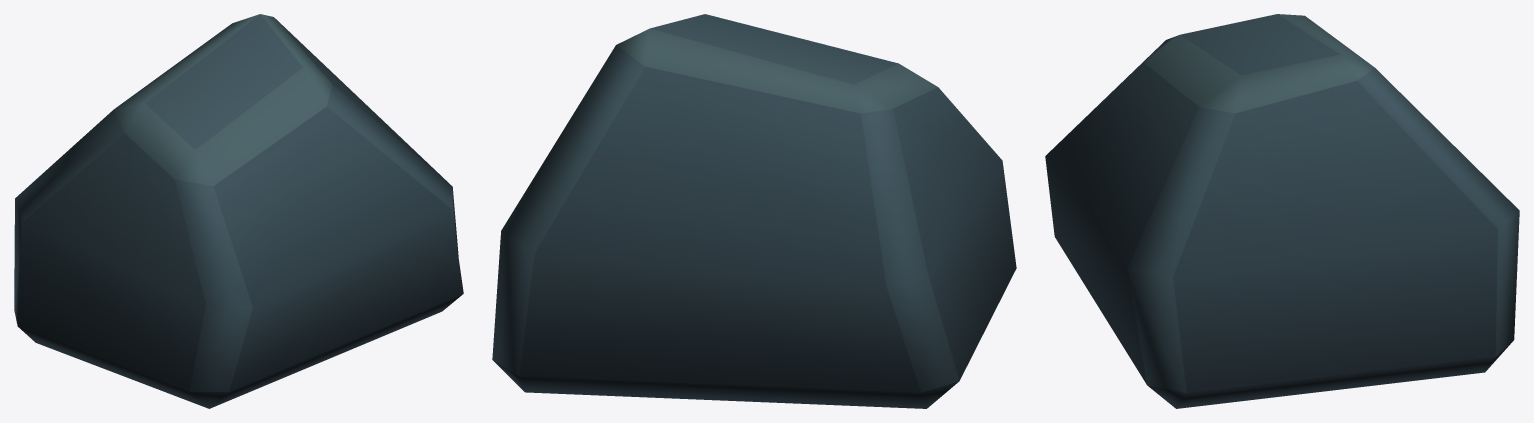
File: rock_22.fbx
3 views of the same model, side by side, from view 1: azimuth 30°, elevation 25°; view 2: azimuth 150°, elevation 25°; view 3: azimuth 270°, elevation 25° (orthographic). The views are drawn at different scales.
Visible parts, largest first — view 1: rock_22; view 2: rock_22; view 3: rock_22.
Part boxes in pixels (x1,y1,x2,y2): rock_22: [14, 14, 463, 408]; rock_22: [492, 14, 1016, 408]; rock_22: [1045, 14, 1519, 408].
Bounding box in the file's own units: 114 × 76.78 × 111.
